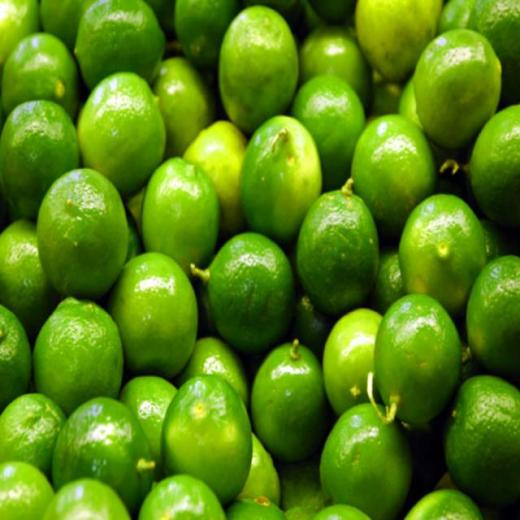Grape: (33, 165, 132, 295)
